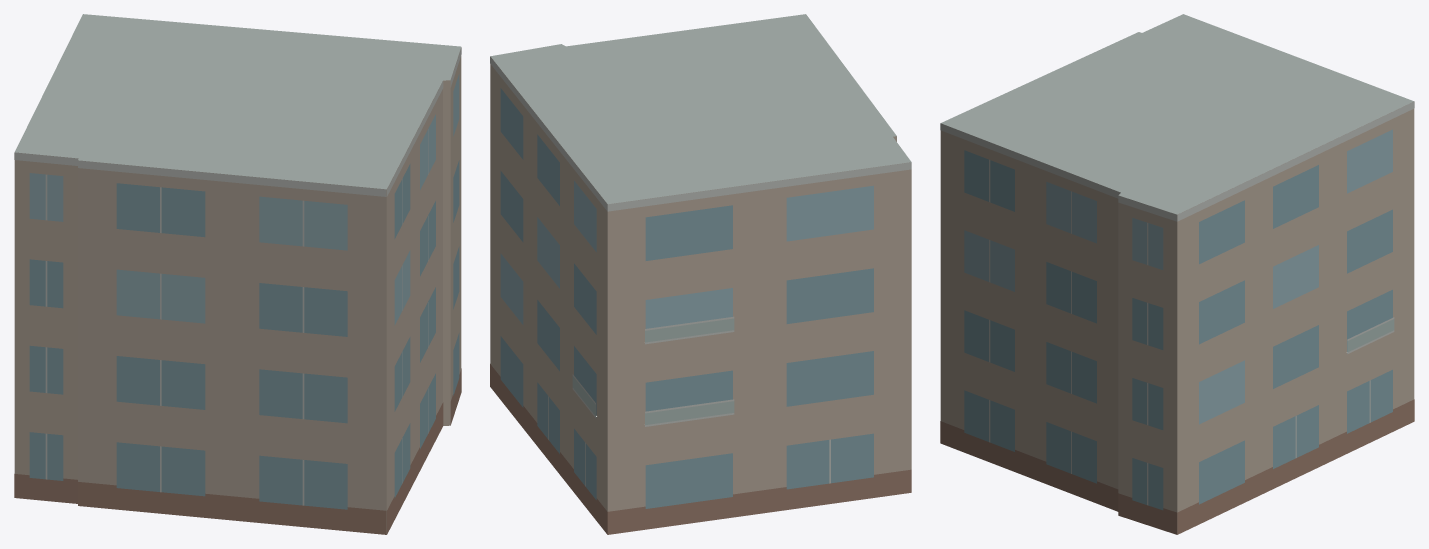
Rendered from survey-upis-32534461.glb.
The picture shows the model from 3 angles, left to right: view 1: azimuth 30°, elevation 25°; view 2: azimuth 150°, elevation 25°; view 3: azimuth 270°, elevation 25°; orthographic projection. The views are drawn at different scales.
Parts seen in each view (by area): view 1: survey-upis-32534461.tmp; view 2: survey-upis-32534461.tmp; view 3: survey-upis-32534461.tmp.
Boxes of the visible parts, x1,y1,x2,y2 form: survey-upis-32534461.tmp: (14,14,461,534); survey-upis-32534461.tmp: (490,14,911,534); survey-upis-32534461.tmp: (940,14,1414,534).
Bounding box in the file's own units: 14.79 × 11 × 14.76.
